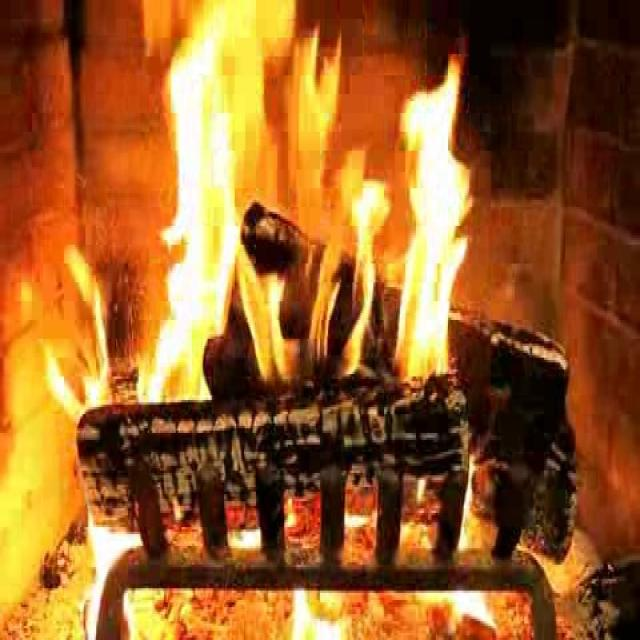fire: (138, 6, 490, 436)
